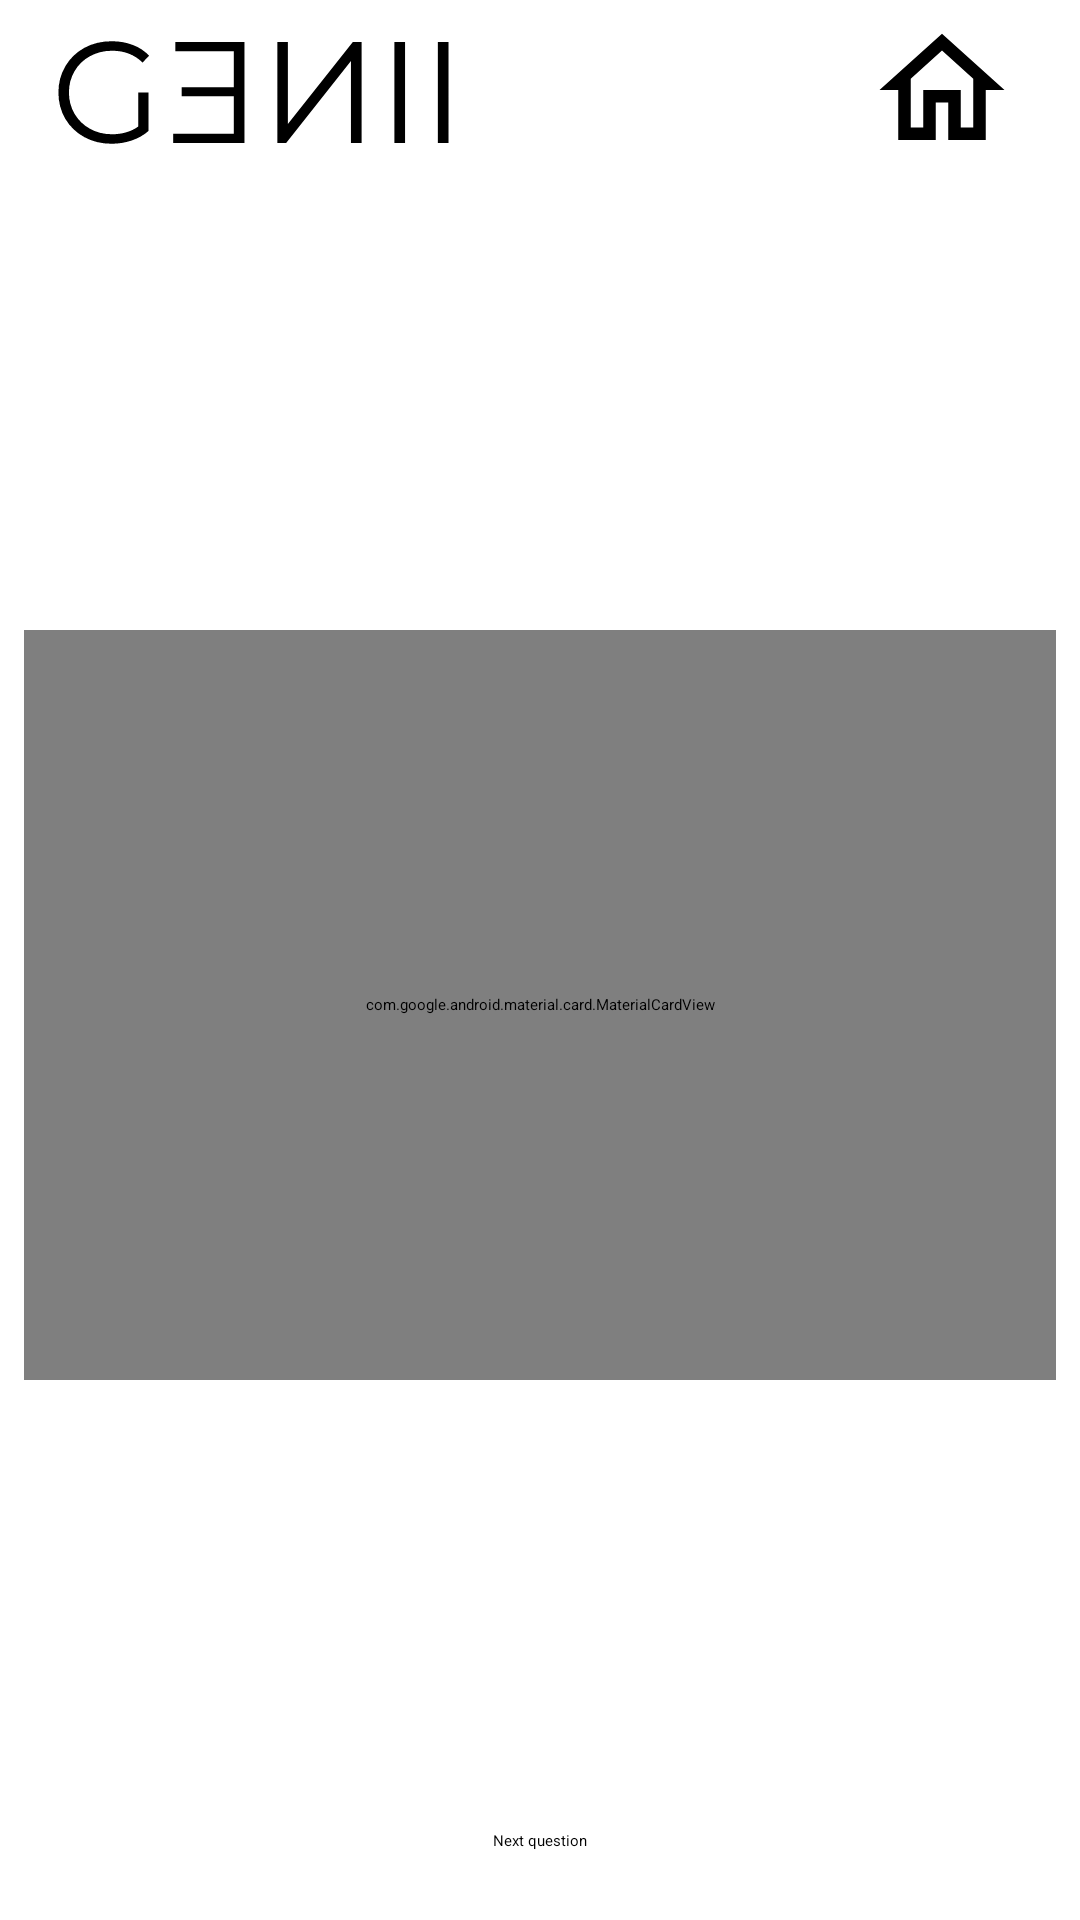

Point at icon controls on the screen. Image size 1080 × 1920, points as [x,y].
home: [942,87]
